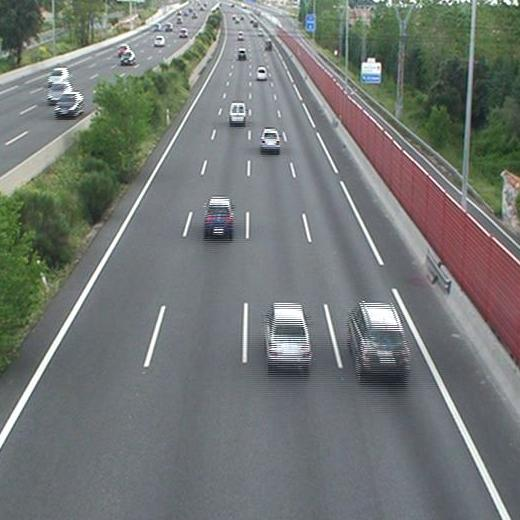car: (349, 304, 408, 374), (264, 304, 312, 366), (203, 198, 234, 235), (259, 129, 279, 149), (256, 67, 268, 80), (263, 40, 272, 50), (238, 49, 246, 59)
van: (229, 103, 247, 124)
